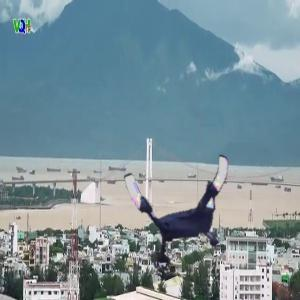drone: (132, 151, 247, 266)
